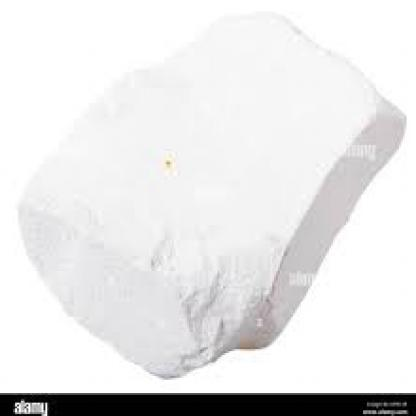Sedimentary_Chalk: (10, 9, 414, 376)
